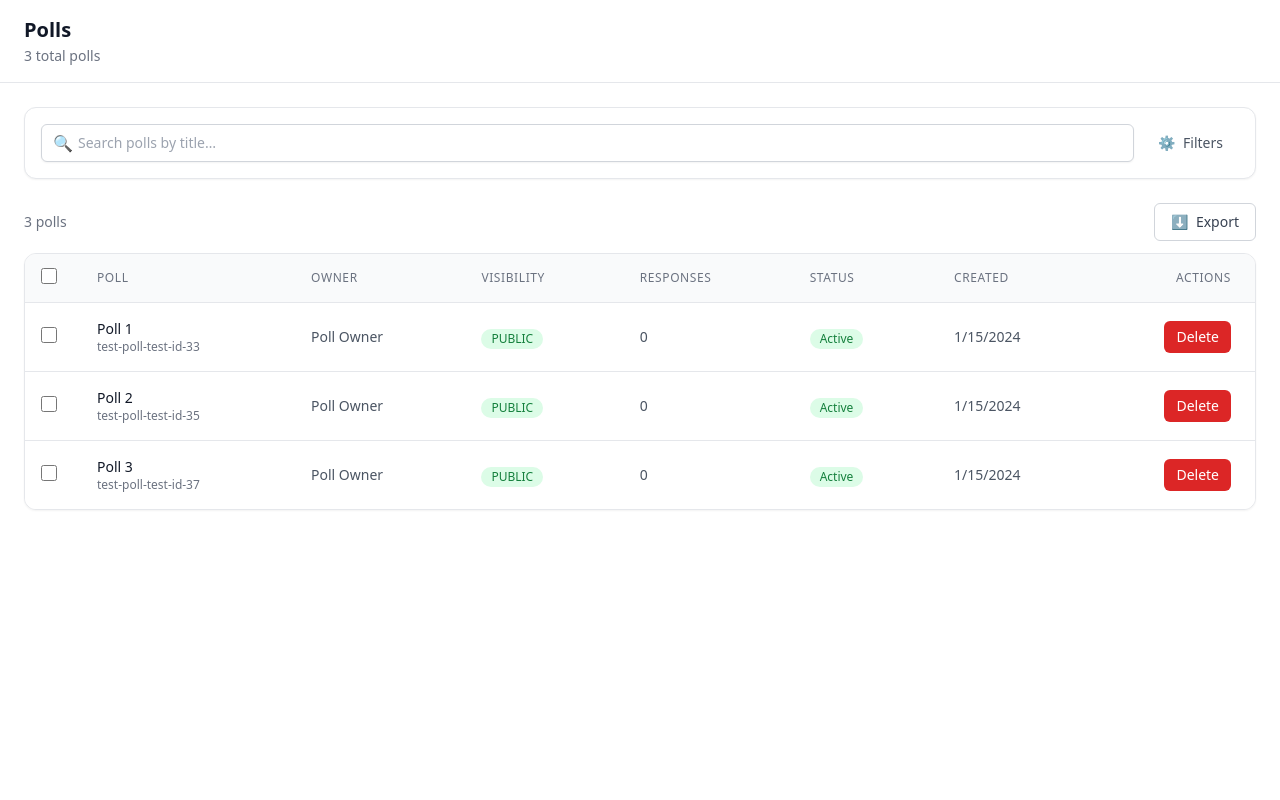
Test: AdminPollsPage › selects all polls when select-all checkbox is clicked
expect the table is shown: met, box 25,254 -> 1255,509
Click the checkbox in the row of "Visibility". click: (49, 276)
box: 41,268 -> 57,284
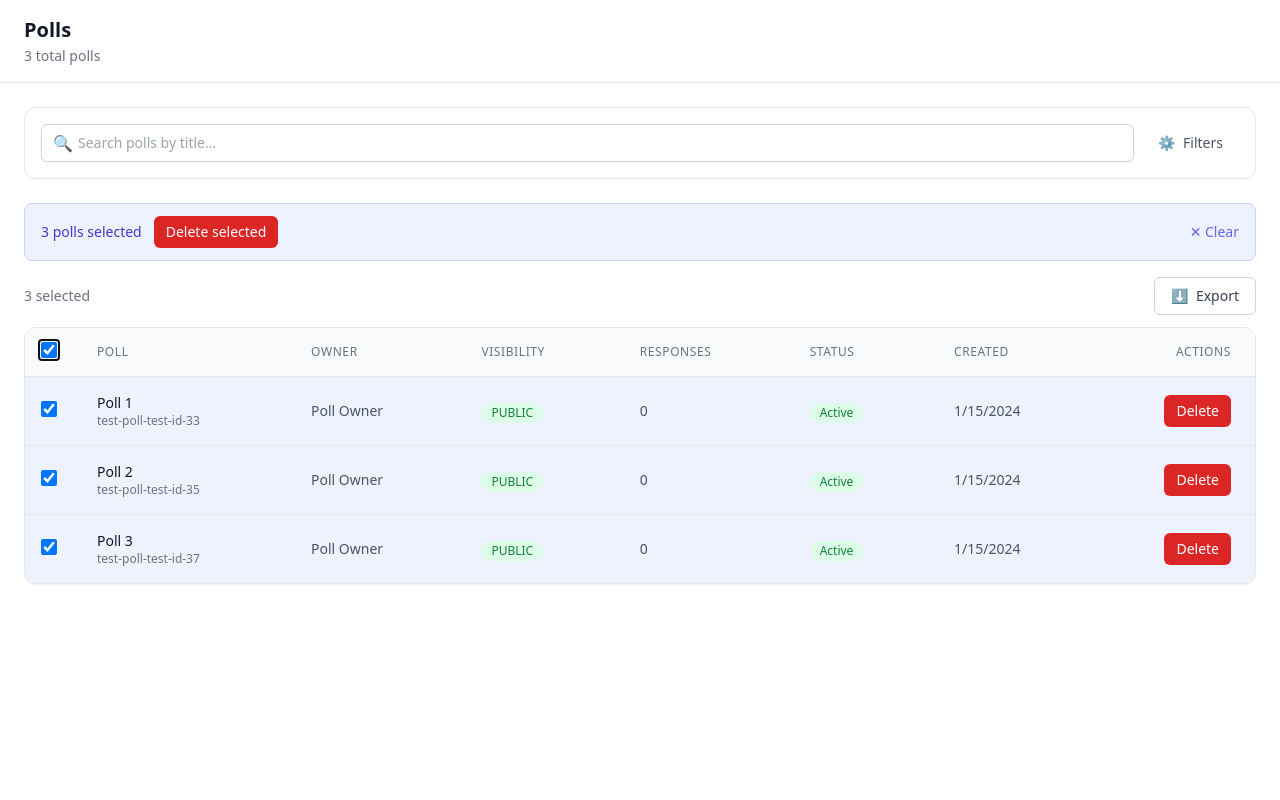
expect the text "3 polls selected" is shown: met, box 41,222 -> 142,242
